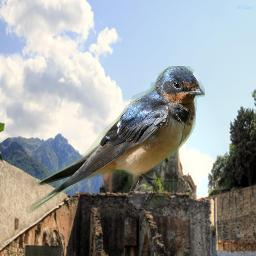Swallow: (27, 66, 205, 216)
